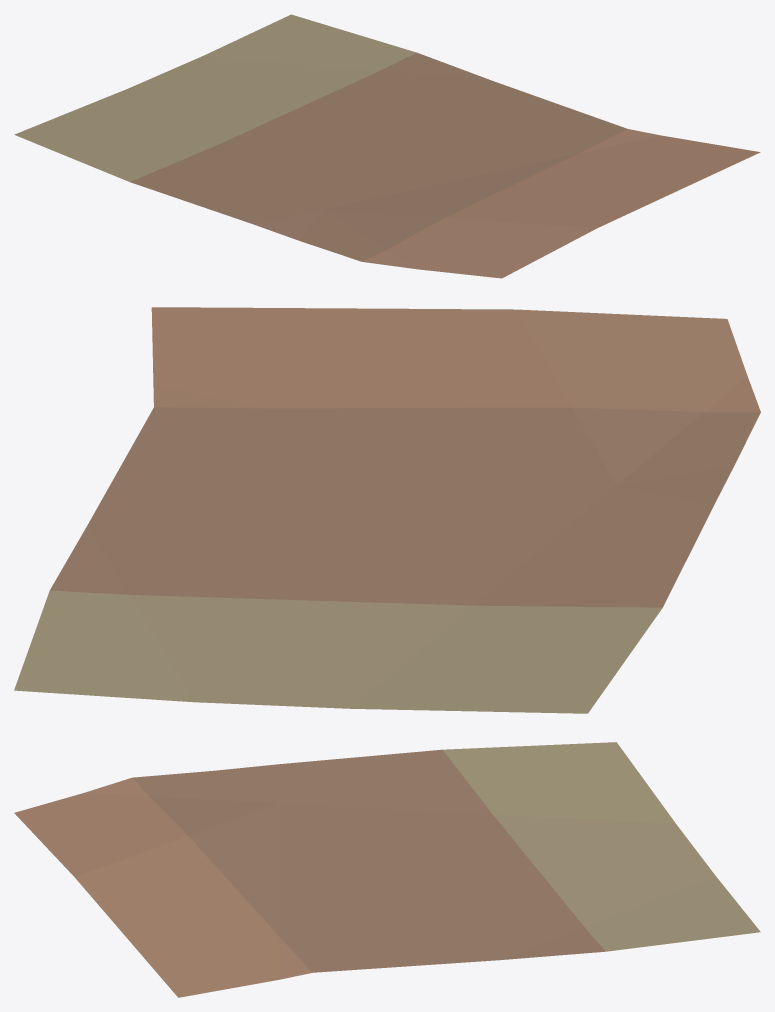
Rendered from farm_-31_-42_soil.glb.
3 renders of one model, top to bottom at view 1: azimuth 30°, elevation 25°; view 2: azimuth 150°, elevation 25°; view 3: azimuth 270°, elevation 25°, orthographic. The views are drawn at different scales.
Parts seen in each view (by area): view 1: geometry_0; view 2: geometry_0; view 3: geometry_0.
Part boxes in pixels (bbox=[...]): geometry_0: bbox=[14, 14, 760, 278]; geometry_0: bbox=[14, 307, 760, 713]; geometry_0: bbox=[14, 742, 760, 997].
Bounding box in the file's own units: 91.72 × 6.79 × 109.
